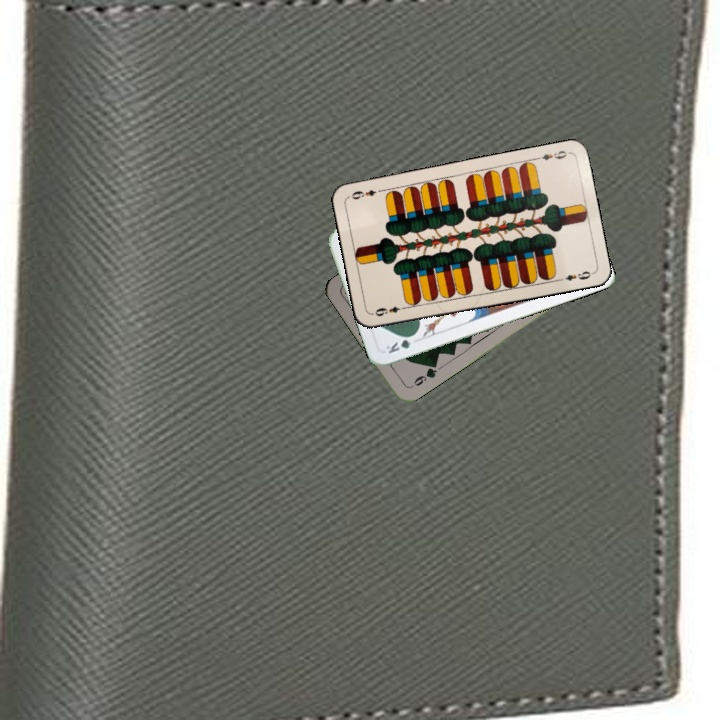E9: (531, 146, 572, 163), (369, 302, 409, 319)
G9: (406, 360, 440, 391)
GK: (382, 330, 419, 356)
